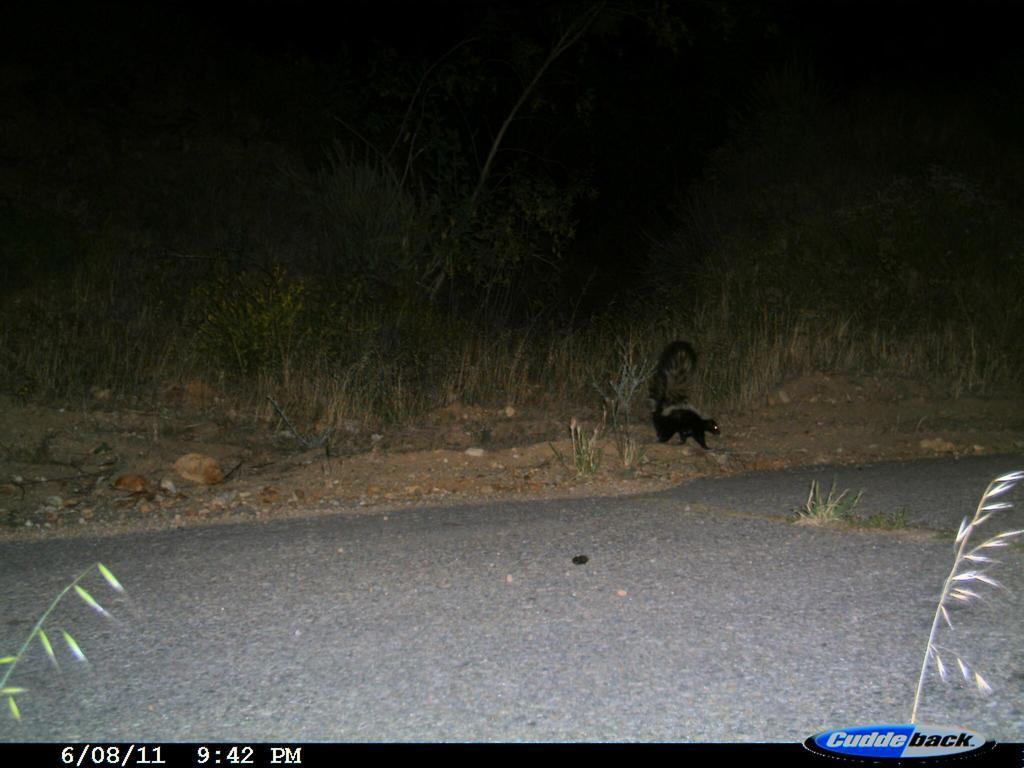skunk: (644, 336, 742, 466)
